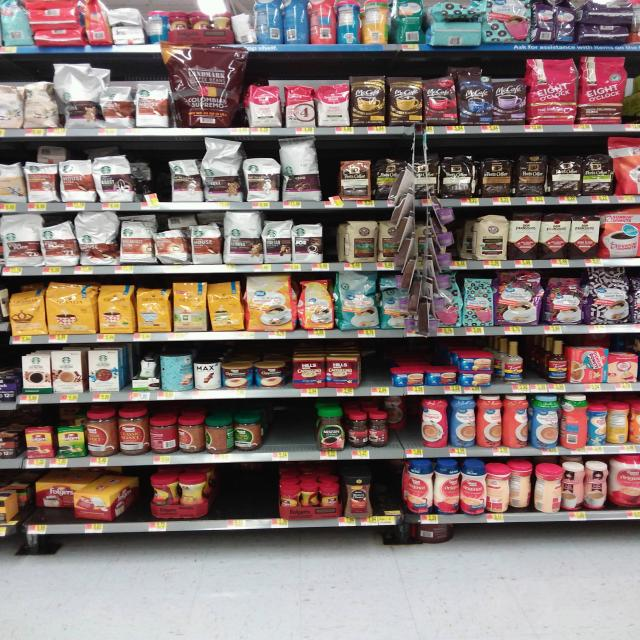empty: (205, 463, 277, 517), (249, 396, 319, 449), (366, 462, 403, 520), (522, 336, 555, 389), (366, 340, 390, 388)
